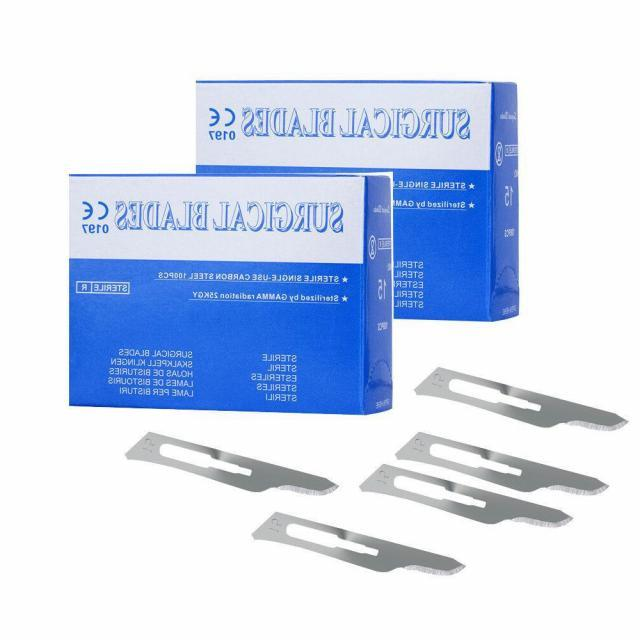Scalpel: (413, 360, 634, 434), (250, 508, 468, 581), (392, 428, 610, 500), (122, 430, 340, 500), (358, 462, 572, 530)
